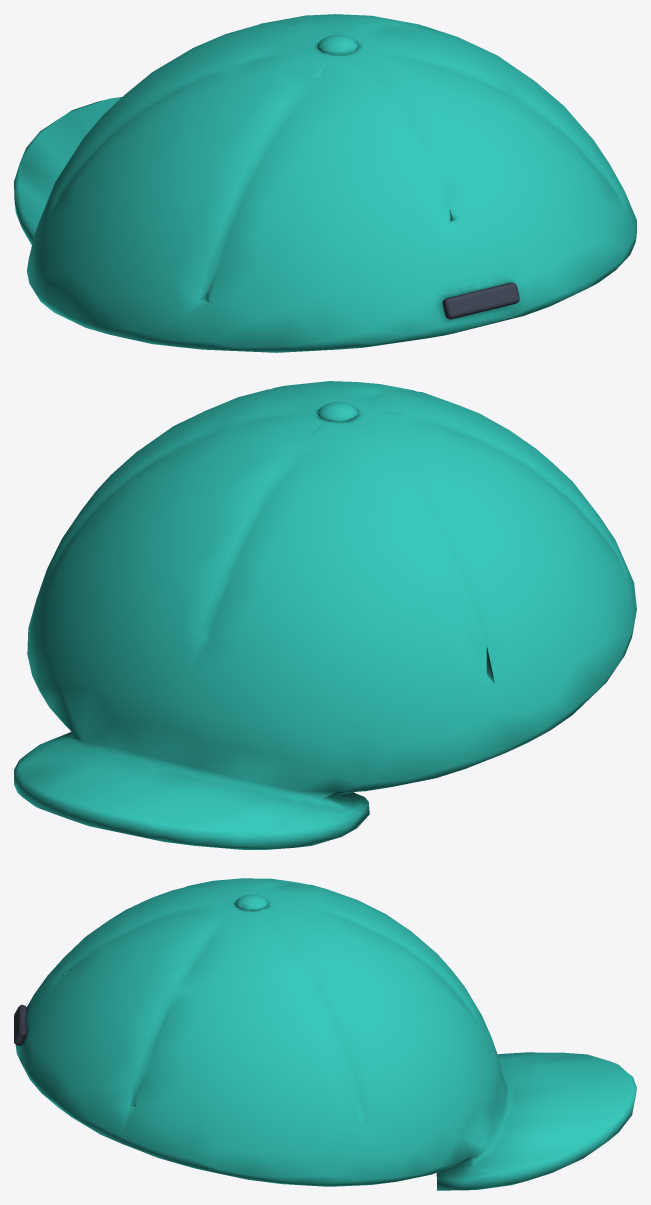
The model's file is hat_cap_backwards.glb.
3 views of the same model, one above another, from view 1: azimuth 30°, elevation 25°; view 2: azimuth 150°, elevation 25°; view 3: azimuth 270°, elevation 25° (orthographic). The views are drawn at different scales.
Parts seen in each view (by area): view 1: hat_cap_backwards; view 2: hat_cap_backwards; view 3: hat_cap_backwards.
Part boxes in pixels (x1=…): hat_cap_backwards: x1=14, y1=14, x2=636, y2=352; hat_cap_backwards: x1=14, y1=381, x2=636, y2=849; hat_cap_backwards: x1=14, y1=878, x2=636, y2=1190.
Bounding box in the file's own units: 0.6175 × 0.3252 × 0.7768.
2 materials, 2 textured.
